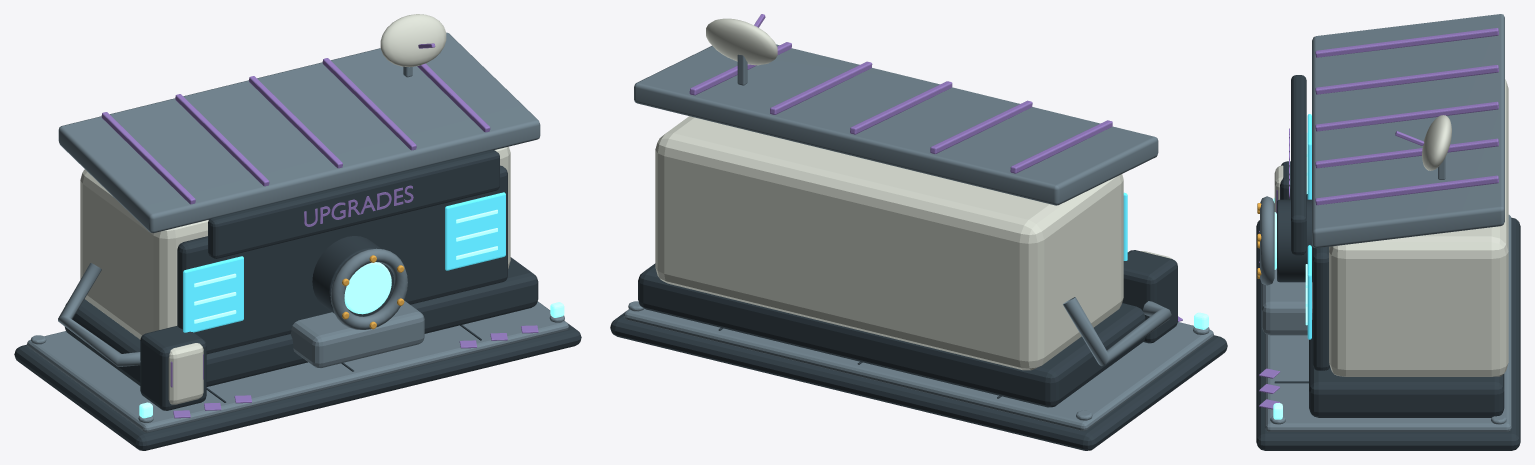
File: upgrades-station.glb
3 views of the same model, side by side, from view 1: azimuth 30°, elevation 25°; view 2: azimuth 150°, elevation 25°; view 3: azimuth 270°, elevation 25° (orthographic). The views are drawn at different scales.
Visible parts, largest first — view 1: Upgrade sloping roof, Upgrade dark facade, Upgrade deck, Upgrade workshop body, Upgrade sign frame, Upgrade foundation, Upgrade workshop foundation, Upgrade assembly cradle, Upgrade facade window.001, Upgrade facade window, Upgrade power module chassis, Upgrade engine collar (+11 smaller); view 2: Upgrade workshop body, Upgrade sloping roof, Upgrade workshop foundation, Upgrade foundation, Upgrade deck, Upgrade power module chassis, Upgrade communications dish, Upgrade power conduit, Upgrade roof fin.001, Upgrade roof fin.002, Upgrade roof fin, Upgrade roof fin.003 (+1 smaller); view 3: Upgrade sloping roof, Upgrade workshop body, Upgrade foundation, Upgrade workshop foundation, Upgrade deck, Upgrade sign frame, Upgrade assembly cradle, Upgrade dark facade, Upgrade engine core, Upgrade roof fin, Upgrade roof fin.001, Upgrade roof fin.004 (+8 smaller).
Boxes of the visible parts, x1,y1,x2,y2 form: Upgrade sloping roof: (58,32,540,232); Upgrade dark facade: (177,165,507,354); Upgrade deck: (27,302,568,432); Upgrade workshop body: (80,146,510,339); Upgrade sign frame: (208,150,499,258); Upgrade foundation: (14,302,581,450); Upgrade workshop foundation: (65,257,538,386); Upgrade assembly cradle: (290,300,424,367); Upgrade facade window.001: (445,192,505,270); Upgrade facade window: (183,256,243,332); Upgrade power module chassis: (140,326,206,410); Upgrade engine collar: (330,248,407,329); Upgrade workshop body: (655,116,1123,370); Upgrade sloping roof: (634,44,1158,205); Upgrade workshop foundation: (638,263,1145,407); Upgrade foundation: (610,309,1227,450); Upgrade deck: (624,308,1213,430); Upgrade power module chassis: (1122,250,1177,343); Upgrade communications dish: (706,18,777,65); Upgrade power conduit: (1063,297,1171,366); Upgrade roof fin.001: (930,100,1032,154); Upgrade roof fin.002: (850,81,952,134); Upgrade roof fin: (1010,120,1112,173); Upgrade roof fin.003: (770,61,872,114); Upgrade sloping roof: (1312,14,1504,248); Upgrade workshop body: (1329,79,1508,376); Upgrade foundation: (1256,217,1520,450); Upgrade workshop foundation: (1309,320,1504,417); Upgrade deck: (1265,215,1511,431); Upgrade sign frame: (1291,75,1306,255); Upgrade assembly cradle: (1261,268,1312,335); Upgrade dark facade: (1312,246,1329,370); Upgrade engine core: (1277,199,1312,282); Upgrade roof fin: (1315,28,1498,57); Upgrade roof fin.001: (1315,65,1498,94); Upgrade roof fin.004: (1315,175,1498,205).
Bounding box in the file's own units: 4.35 × 2.66 × 2.18.
